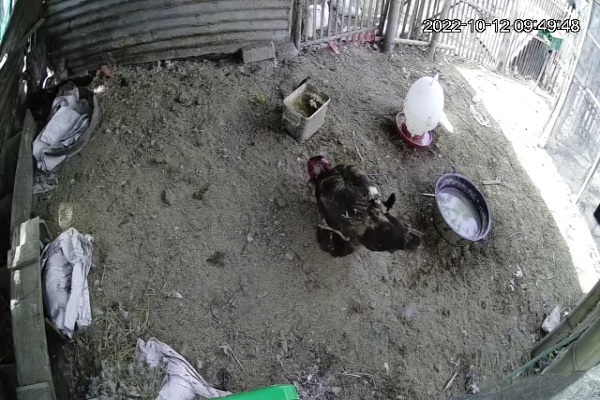Kawin: (302, 148, 425, 268)
